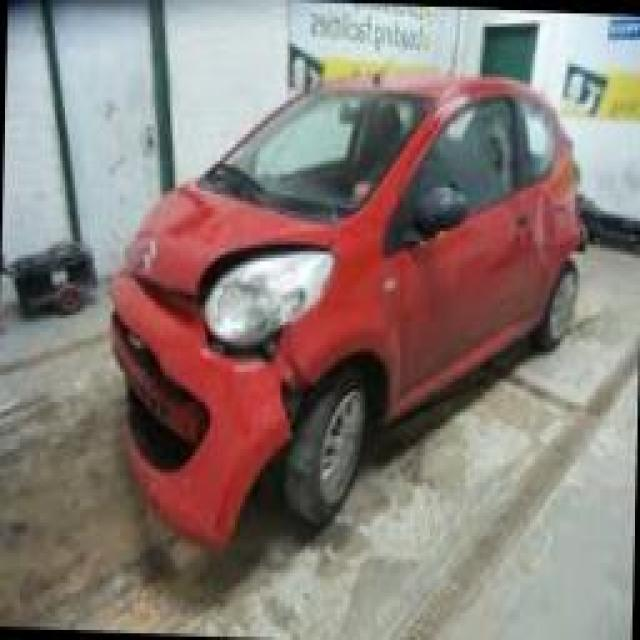replaceable: (153, 330, 313, 505), (150, 185, 250, 254)
